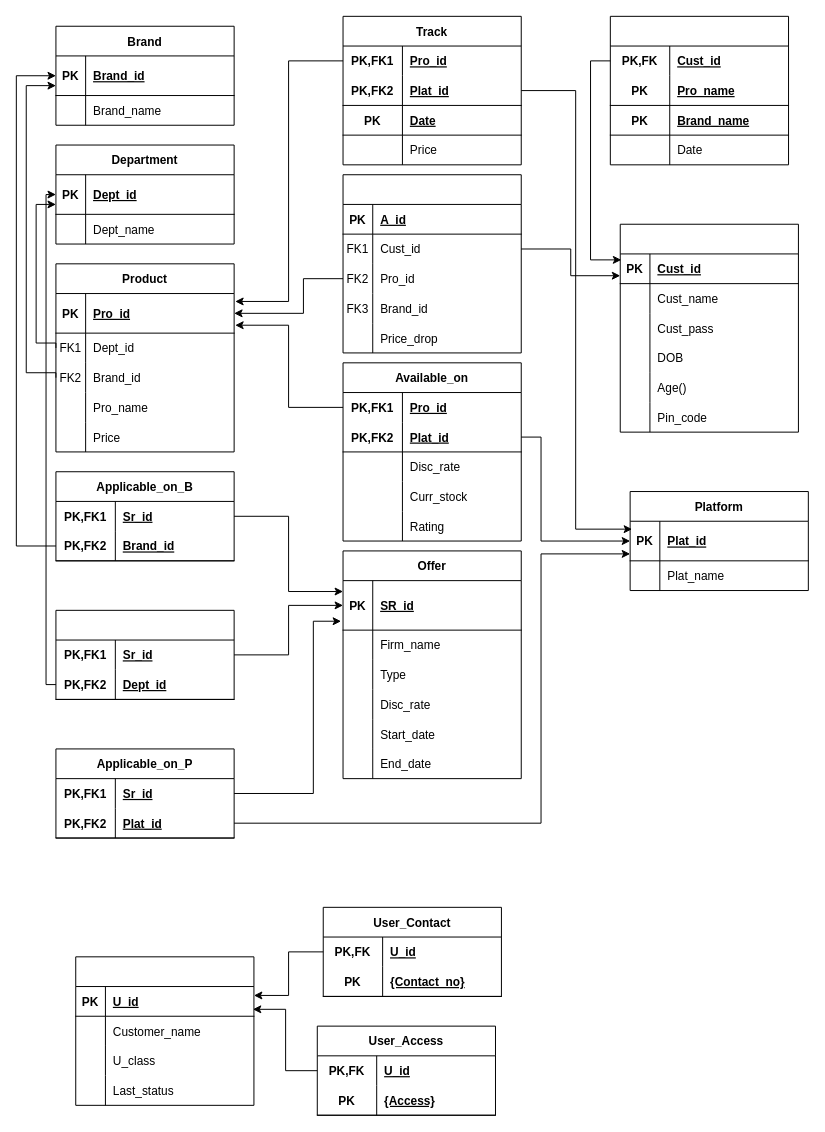
Image size: 825x1132. Some labels were removed from this diagram. Here are the shapes that lost their labels. From the top down, the box of each, then its label:
(609, 15, 789, 165): Pro_Hist
(342, 174, 521, 353): Price_alert
(619, 223, 798, 432): Customer
(55, 609, 234, 699): Applicable_on_D
(75, 956, 254, 1105): User_class
